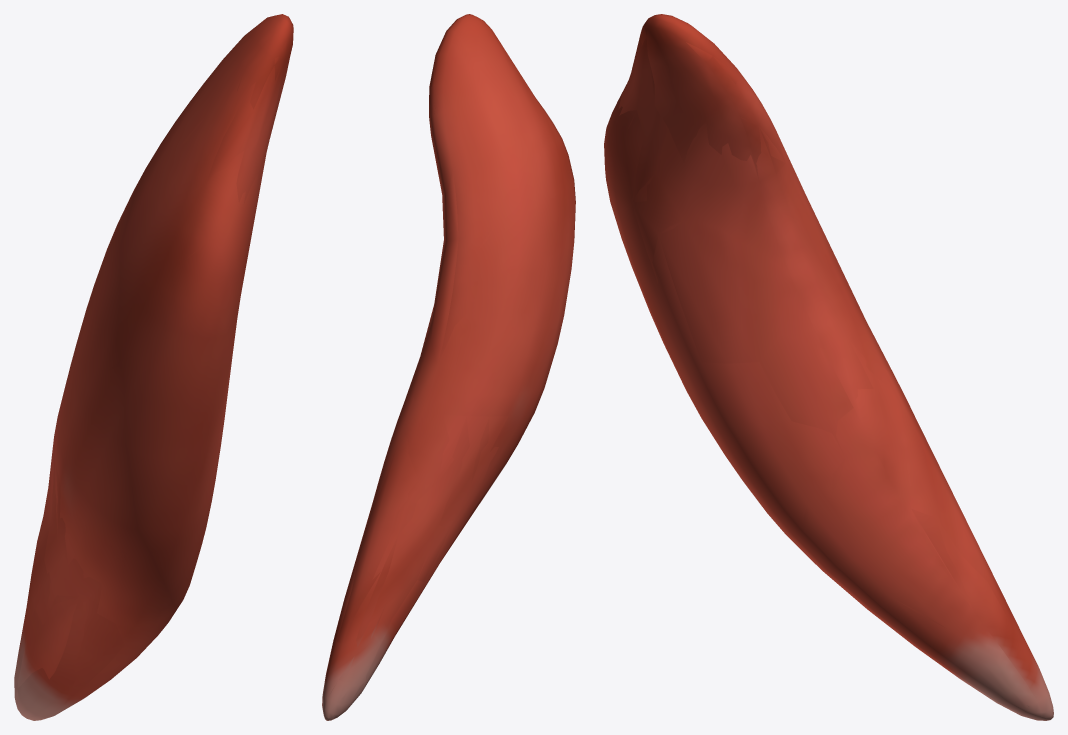
File: R Brachialis.fbx
3 views of the same model, side by side, from view 1: azimuth 30°, elevation 25°; view 2: azimuth 150°, elevation 25°; view 3: azimuth 270°, elevation 25° (orthographic). The views are drawn at different scales.
Parts seen in each view (by area): view 1: R Brachialis, R Brachialis low; view 2: R Brachialis, R Brachialis low; view 3: R Brachialis, R Brachialis low.
Part boxes in pixels (x1,y1,x2,y2): R Brachialis: [14, 14, 293, 720]; R Brachialis low: [15, 19, 286, 703]; R Brachialis: [322, 14, 575, 720]; R Brachialis low: [328, 14, 571, 720]; R Brachialis: [604, 14, 1053, 720]; R Brachialis low: [618, 15, 1045, 717].
Size of the model in its own units: 2.61 by 12.22 by 6.95.
